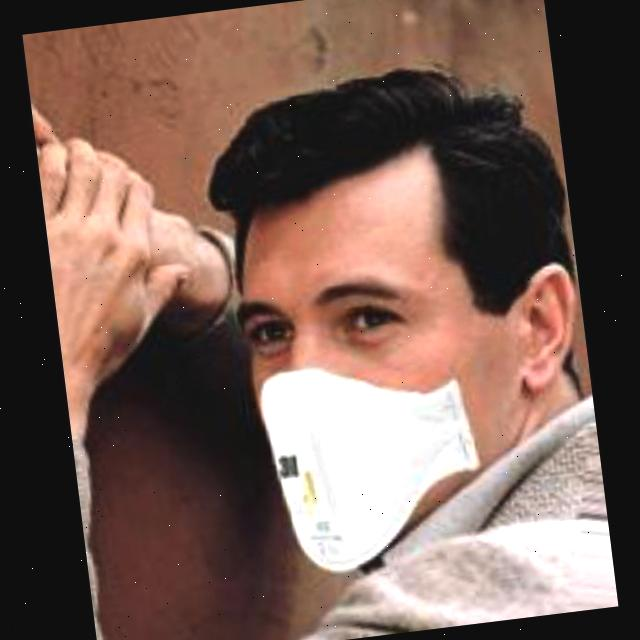suspicion: (195, 116, 566, 576)
